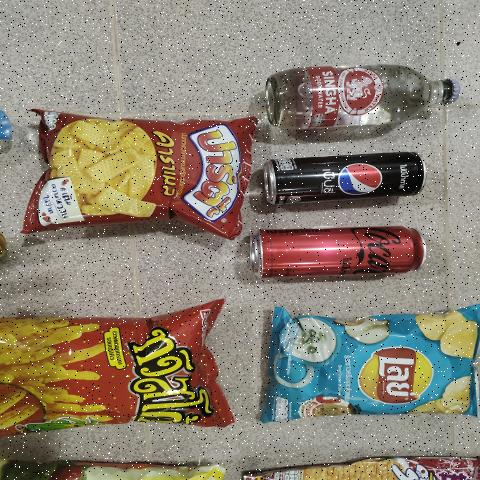coke_red: (250, 228, 433, 279)
lay_blue: (266, 312, 480, 421)
party_red: (41, 110, 246, 226)
pepsi_black: (266, 150, 430, 197)
singha_soda: (262, 58, 460, 122)
twisco: (0, 307, 218, 421)
